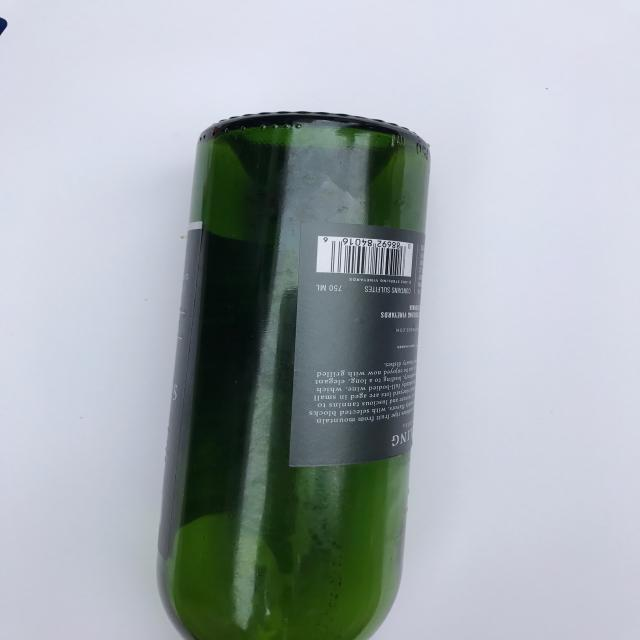glass: (155, 110, 433, 640)
